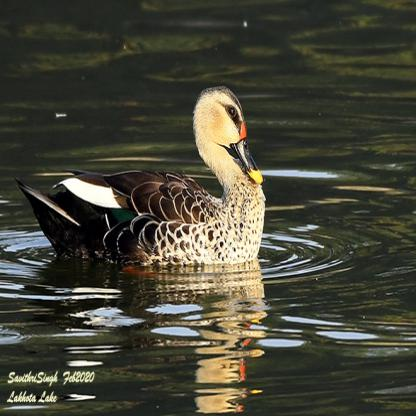Burung: (14, 84, 265, 269)
